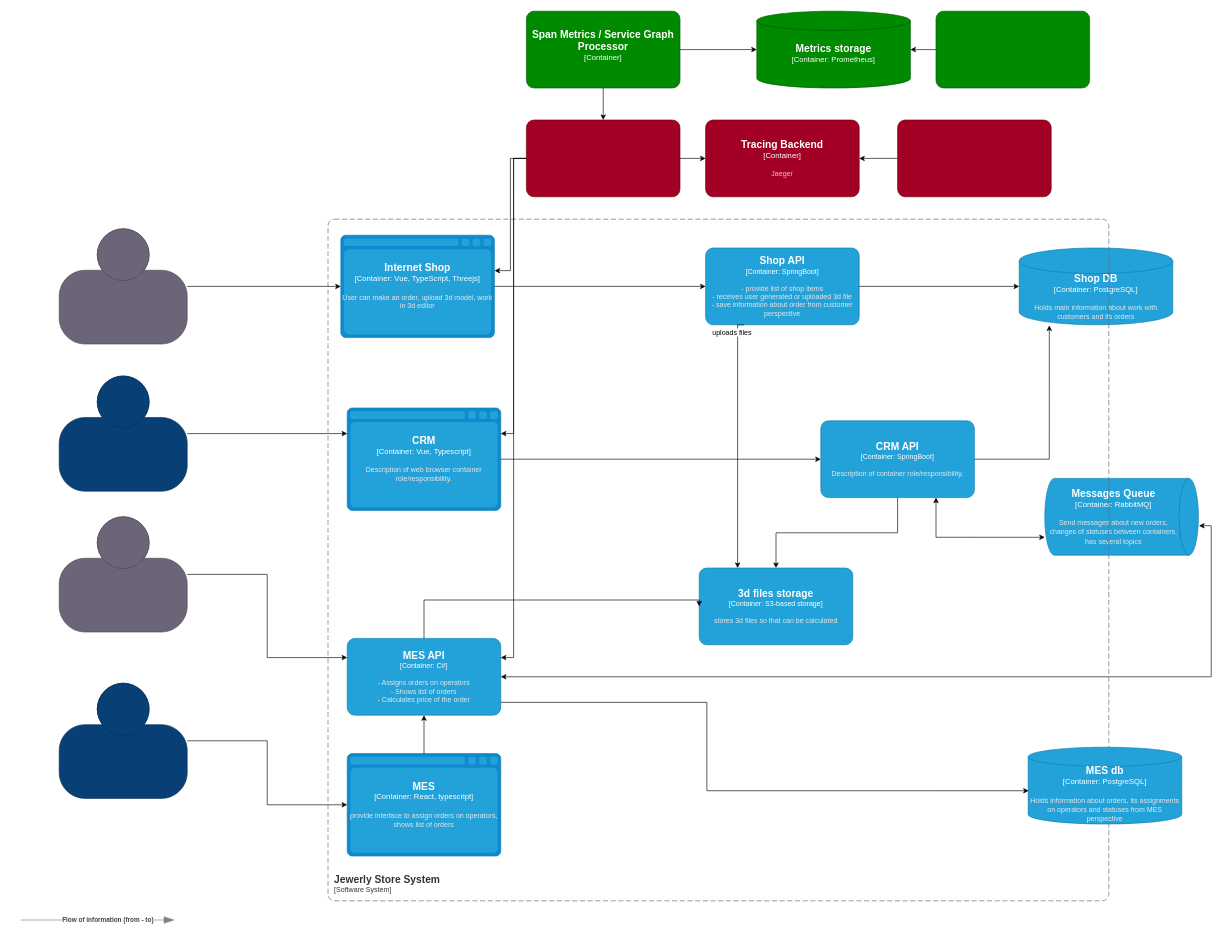
Some shapes in this 1228 by 941 pixel diagram are drawn without their labels. Each missing label, with the centre of its shape:
"Alerting [Container: ] Alertmanager / managed alerting" goes at pixel 1012 49.
"API user [Person] Description of external person." goes at pixel 123 574.
"Customer [Person] Description of external person." goes at pixel 123 286.
"OpenTelemetry Collector [Container] Technology: OpenTelemetry Collector" goes at pixel 603 158.
"Operator [Person] Takes order in work, manufactures jewerly" goes at pixel 123 740.
"Seller [Person] Operates with order, confirms manufacturing for the user" goes at pixel 123 433.
"Tracing UI [Container]" goes at pixel 974 158.
